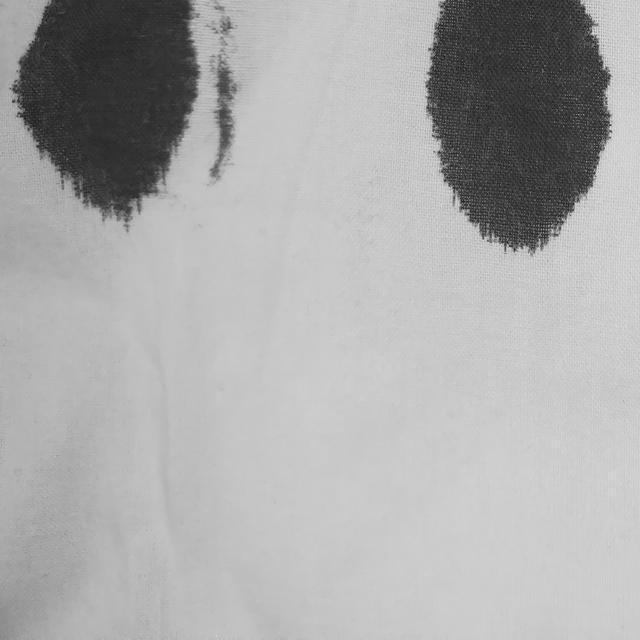Thread_other: (394, 0, 622, 275)
